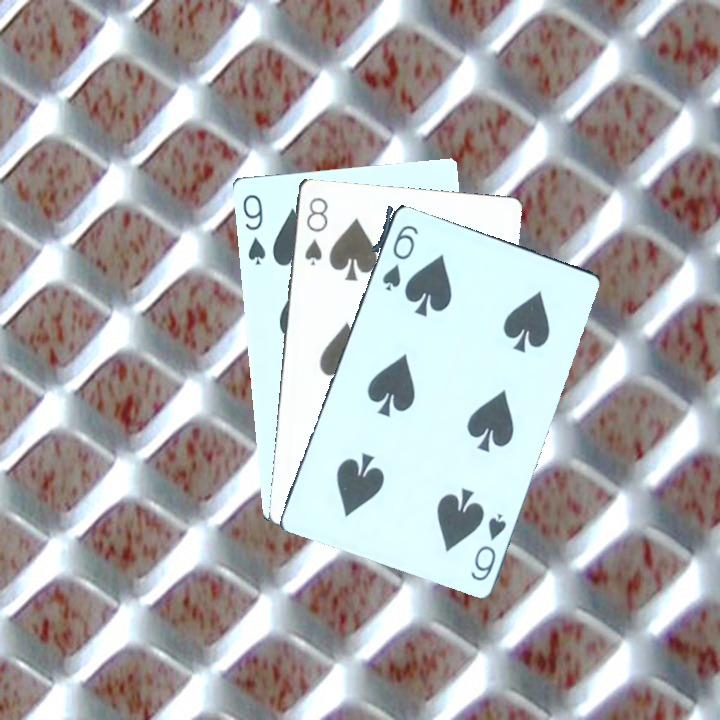6s: (466, 509, 509, 584), (378, 221, 421, 293)
8s: (300, 193, 331, 268)
9s: (238, 190, 268, 268)
